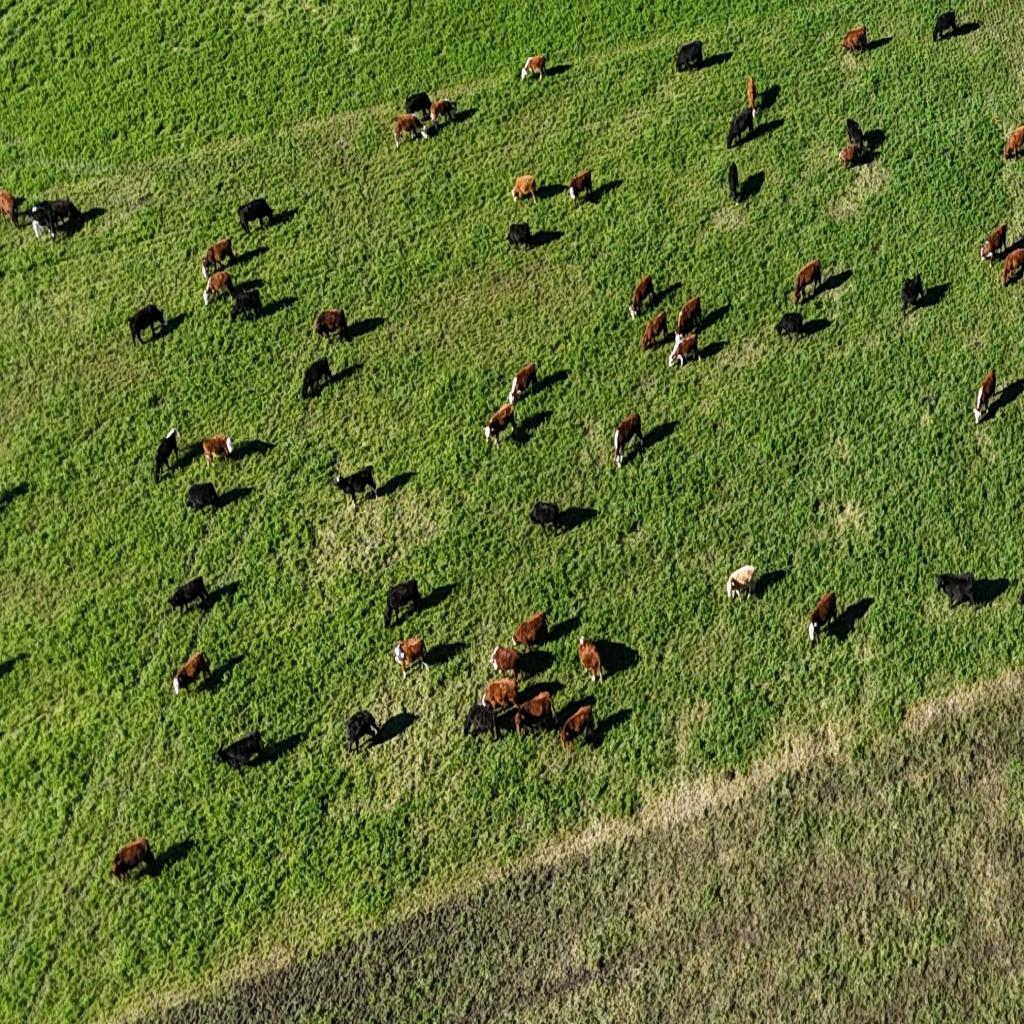cow: (214, 730, 265, 776), (110, 836, 158, 881), (171, 651, 211, 701), (514, 692, 556, 739), (333, 465, 376, 510), (806, 588, 838, 647), (382, 577, 418, 628), (559, 704, 595, 753), (128, 304, 166, 348), (611, 411, 643, 463), (168, 576, 209, 616), (344, 709, 379, 754), (937, 573, 977, 611), (513, 612, 548, 654), (482, 678, 519, 717), (152, 427, 178, 481), (979, 220, 1009, 266), (578, 633, 604, 686), (529, 499, 565, 537), (464, 703, 498, 743), (792, 260, 820, 308), (301, 358, 332, 400), (30, 200, 61, 242), (184, 482, 220, 518), (392, 638, 432, 670), (726, 105, 755, 149), (237, 198, 273, 233), (314, 308, 348, 345), (200, 237, 232, 276), (726, 563, 757, 603), (230, 288, 262, 324), (202, 270, 232, 308), (509, 362, 537, 402), (676, 296, 702, 339), (484, 402, 515, 438), (392, 112, 428, 143), (630, 273, 655, 314), (643, 310, 668, 350), (202, 434, 233, 466), (901, 274, 924, 316), (1001, 246, 1024, 288), (54, 196, 84, 228), (675, 40, 702, 72), (511, 173, 538, 205), (404, 91, 432, 121), (977, 368, 996, 412), (1002, 124, 1024, 162), (841, 24, 867, 56), (932, 10, 956, 42), (845, 117, 865, 155), (776, 310, 803, 338), (506, 222, 532, 251), (430, 98, 459, 124), (570, 168, 592, 198), (523, 54, 546, 80)
